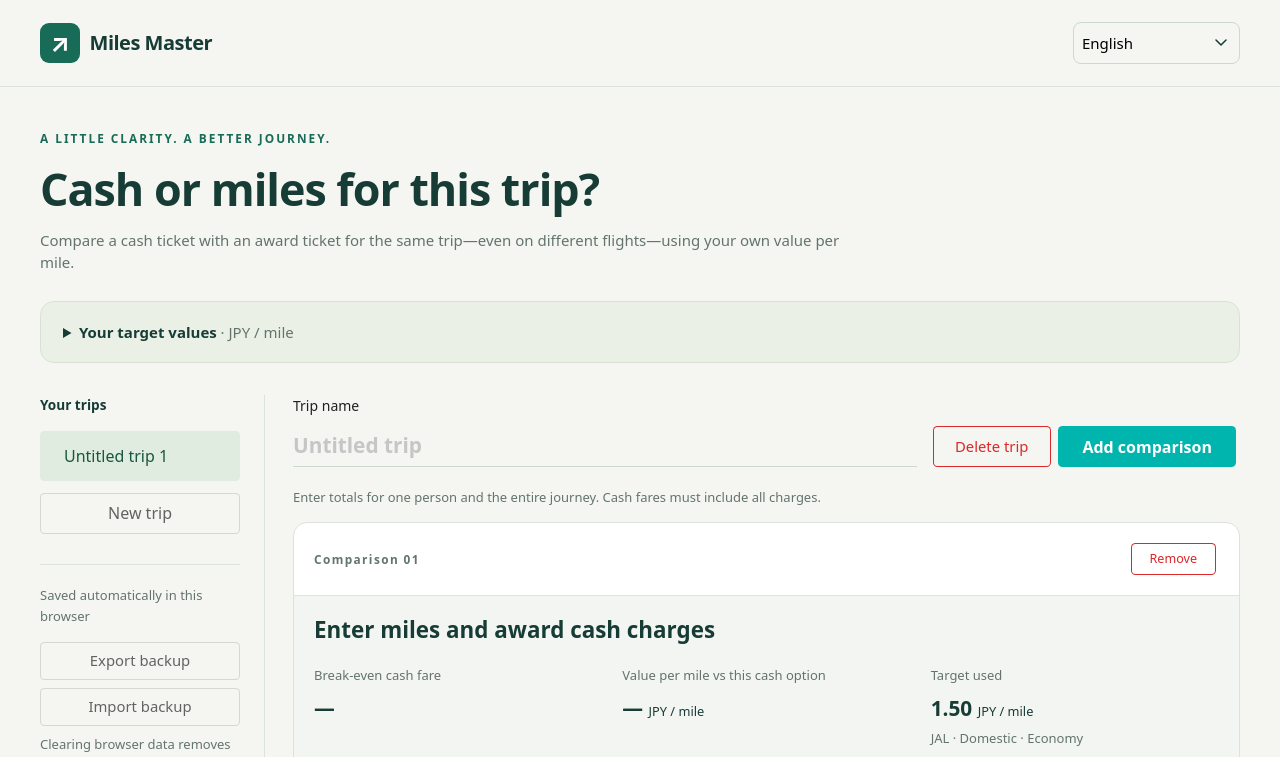
Test case: comparison workflow › changes both the UI language and the document language
The image size is (1280, 757).
Select "日本語" in the dropdown at (1156, 43), box [1073, 22, 1240, 64]
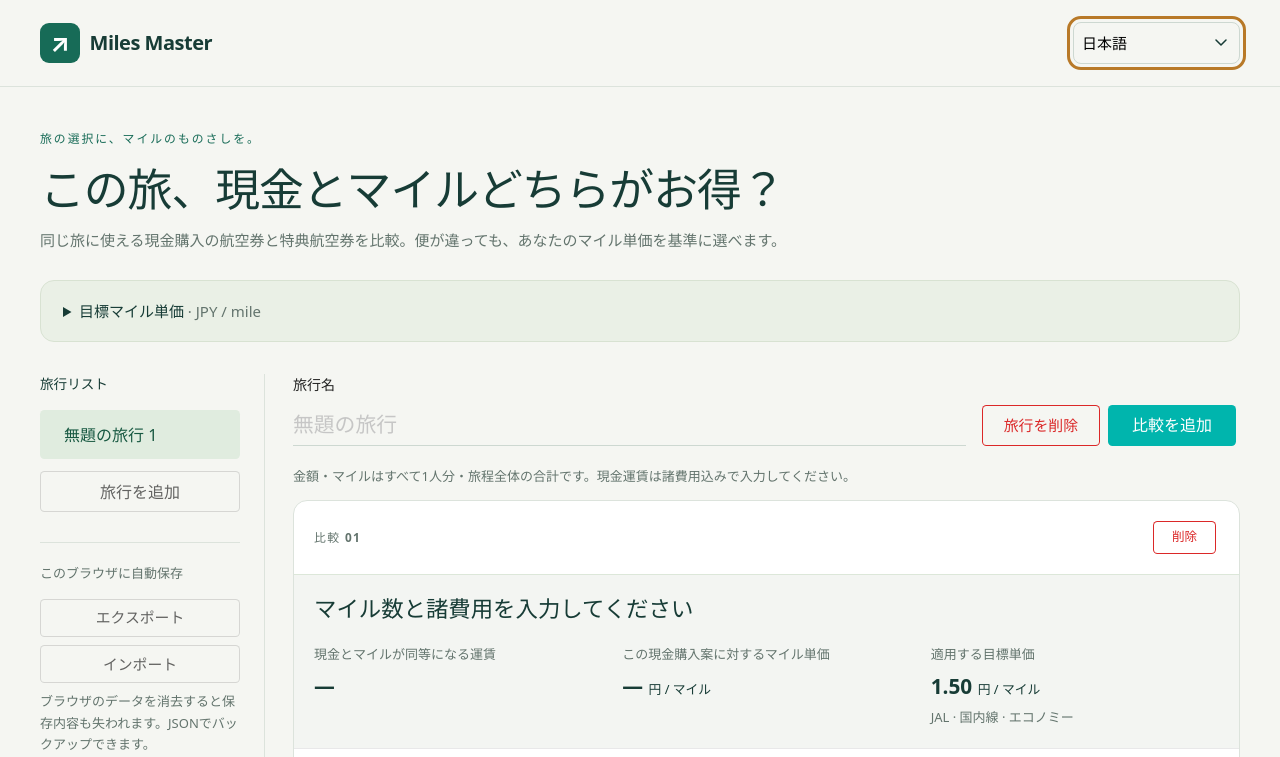
Now the heading "この旅、現金とマイルどちらがお得？" is shown, box [40, 158, 785, 219]
